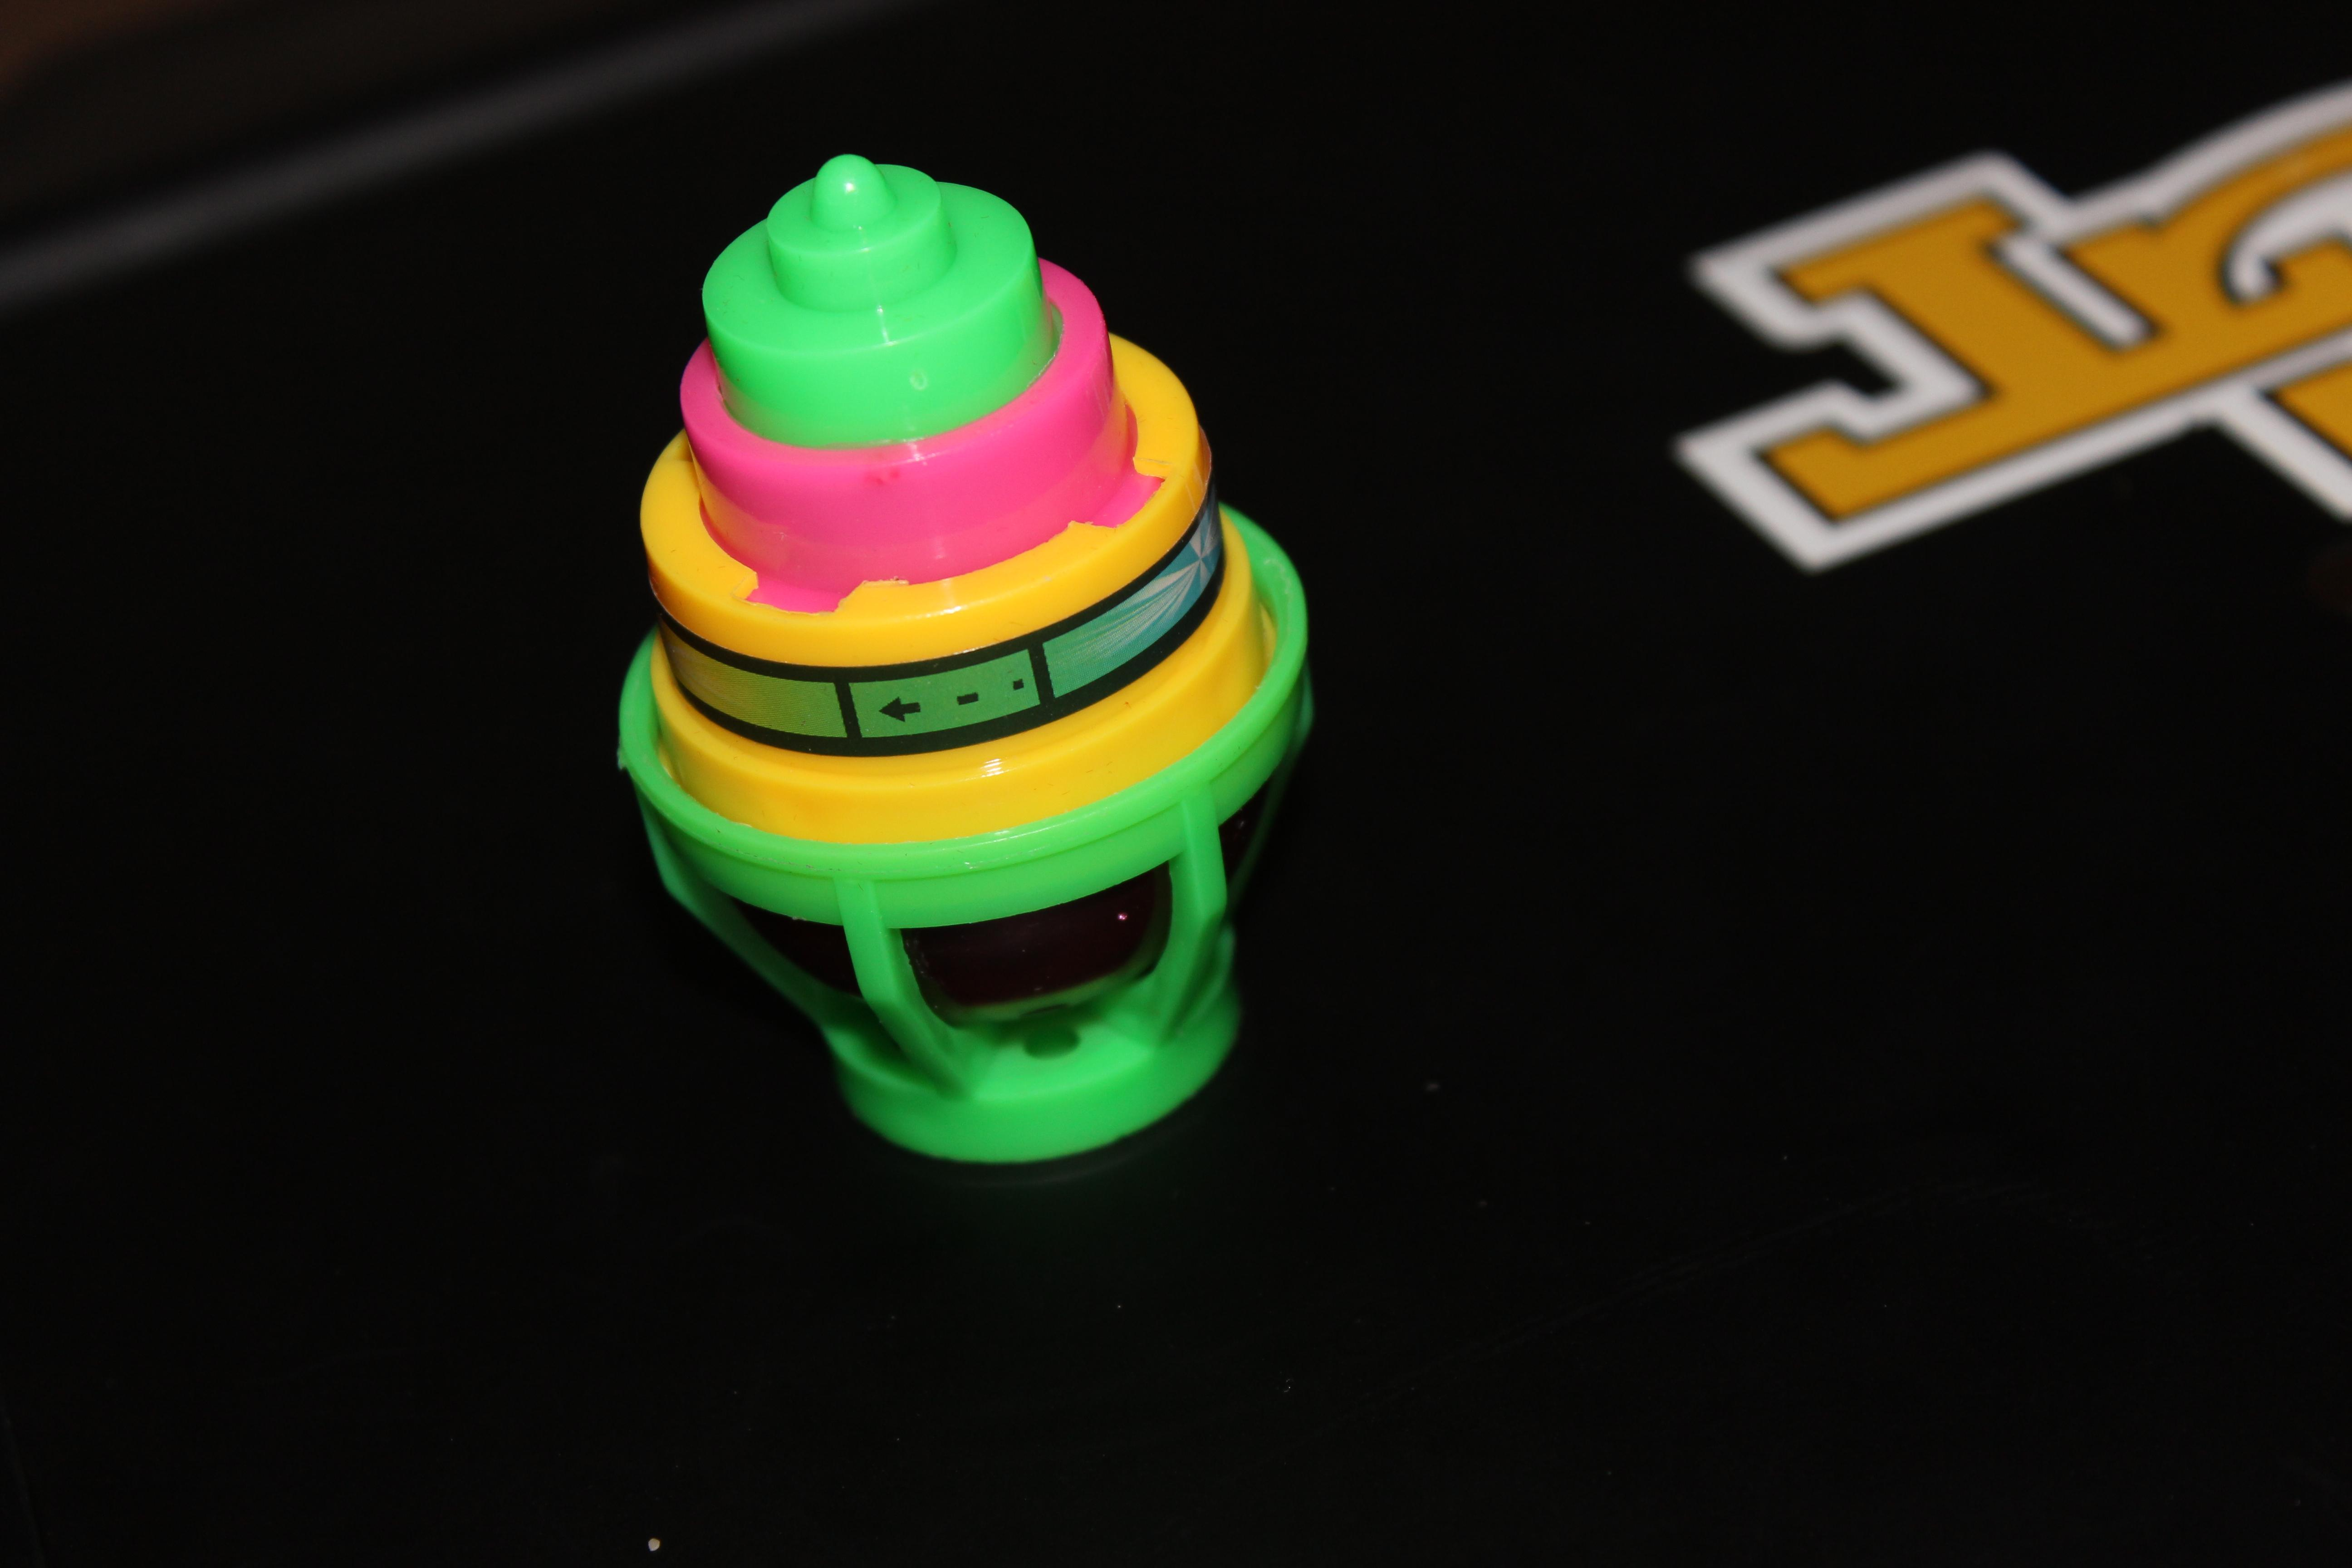gyroscope: (563, 135, 1402, 1211)
